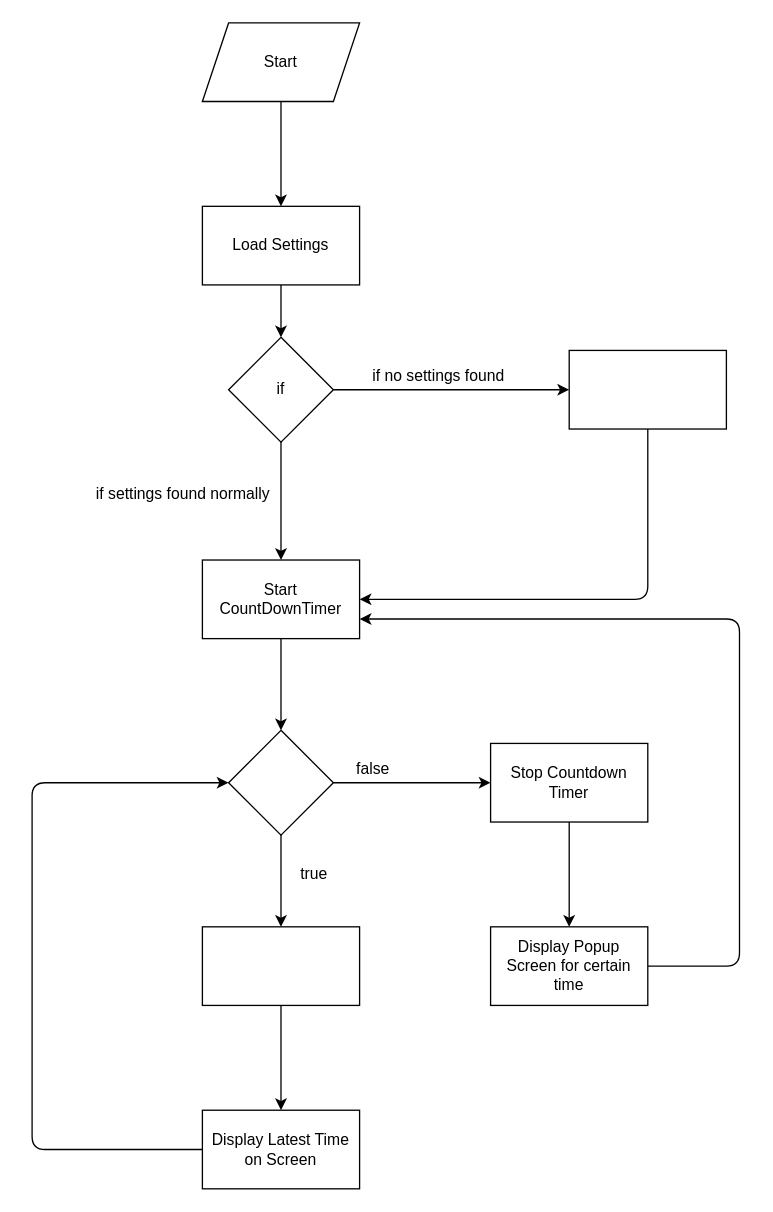
Some shapes in this 773 by 1212 pixel diagram are drawn without their labels. Here are the shapes that lost their labels. From the top down, the box of each, then its label:
(568, 349, 726, 429): set totalSeconds to a default value
(227, 729, 333, 835): if totalSeconds > 0
(201, 926, 360, 1005): decreament totalSeconds by one
